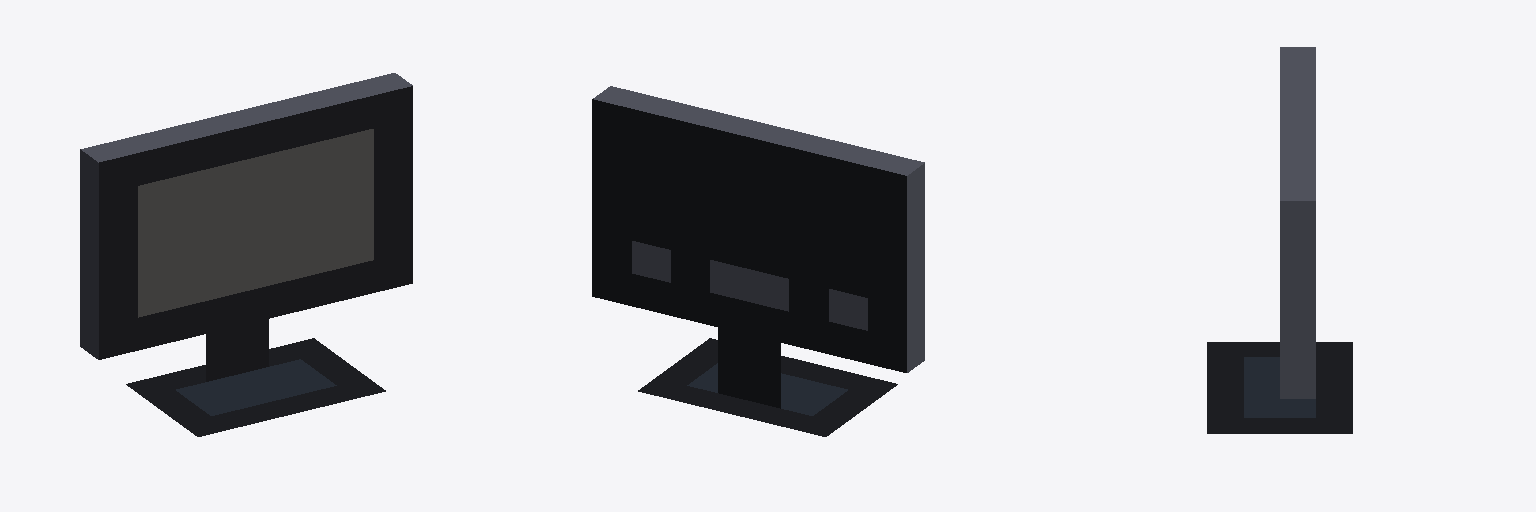
The picture shows the model from 3 angles: view 1: azimuth 30°, elevation 25°; view 2: azimuth 150°, elevation 25°; view 3: azimuth 270°, elevation 25°; orthographic projection.
Parts seen in each view (by area): view 1: Box 3, Plane 2, Box 2; view 2: Box 3, Plane 2, Box 2; view 3: Box 3, Plane 2.
Boxes of the visible parts, x1=… form: Box 3: x1=80, y1=73, x2=412, y2=359; Plane 2: x1=126, y1=338, x2=385, y2=436; Box 2: x1=206, y1=319, x2=268, y2=381; Box 3: x1=592, y1=86, x2=924, y2=372; Plane 2: x1=638, y1=338, x2=897, y2=436; Box 2: x1=718, y1=328, x2=780, y2=408; Box 3: x1=1280, y1=47, x2=1315, y2=398; Plane 2: x1=1207, y1=342, x2=1352, y2=433.
Size of the model in its own units: 10 by 8 by 4.
1 materials, 1 textured.